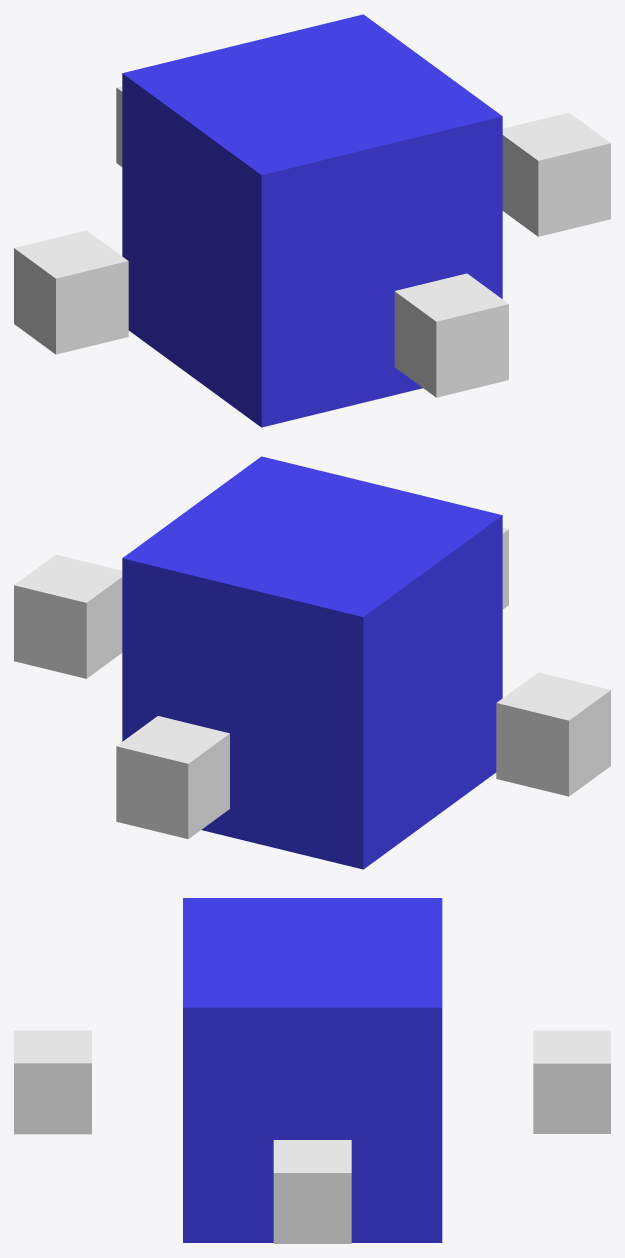
The model's file is minimap_room_4_door.fbx.
3 renders of one model, top to bottom at view 1: azimuth 30°, elevation 25°; view 2: azimuth 150°, elevation 25°; view 3: azimuth 270°, elevation 25°, orthographic. The views are drawn at different scales.
Parts seen in each view (by area): view 1: minimap_room_4_door; view 2: minimap_room_4_door; view 3: minimap_room_4_door.
Part boxes in pixels (<box>): minimap_room_4_door: <box>14,14,610,427</box>; minimap_room_4_door: <box>14,456,610,869</box>; minimap_room_4_door: <box>14,898,610,1243</box>.
Size of the model in its own units: 1.15 by 0.5 by 1.15.
